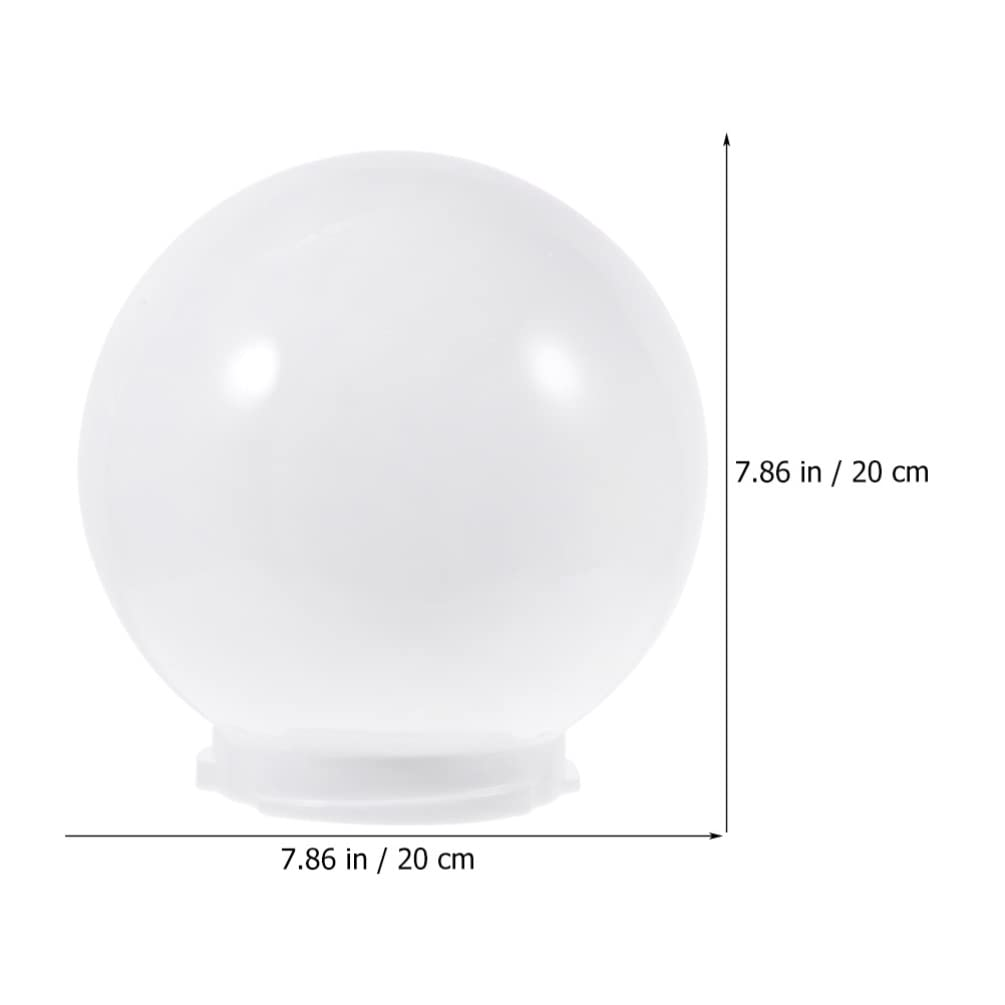/: (837, 460, 842, 487), (382, 847, 387, 874)
20: (399, 847, 427, 870)
7.86: (736, 460, 790, 483), (282, 848, 335, 870)
cm: (438, 853, 474, 870)
in: (801, 461, 821, 482), (347, 848, 366, 870)
